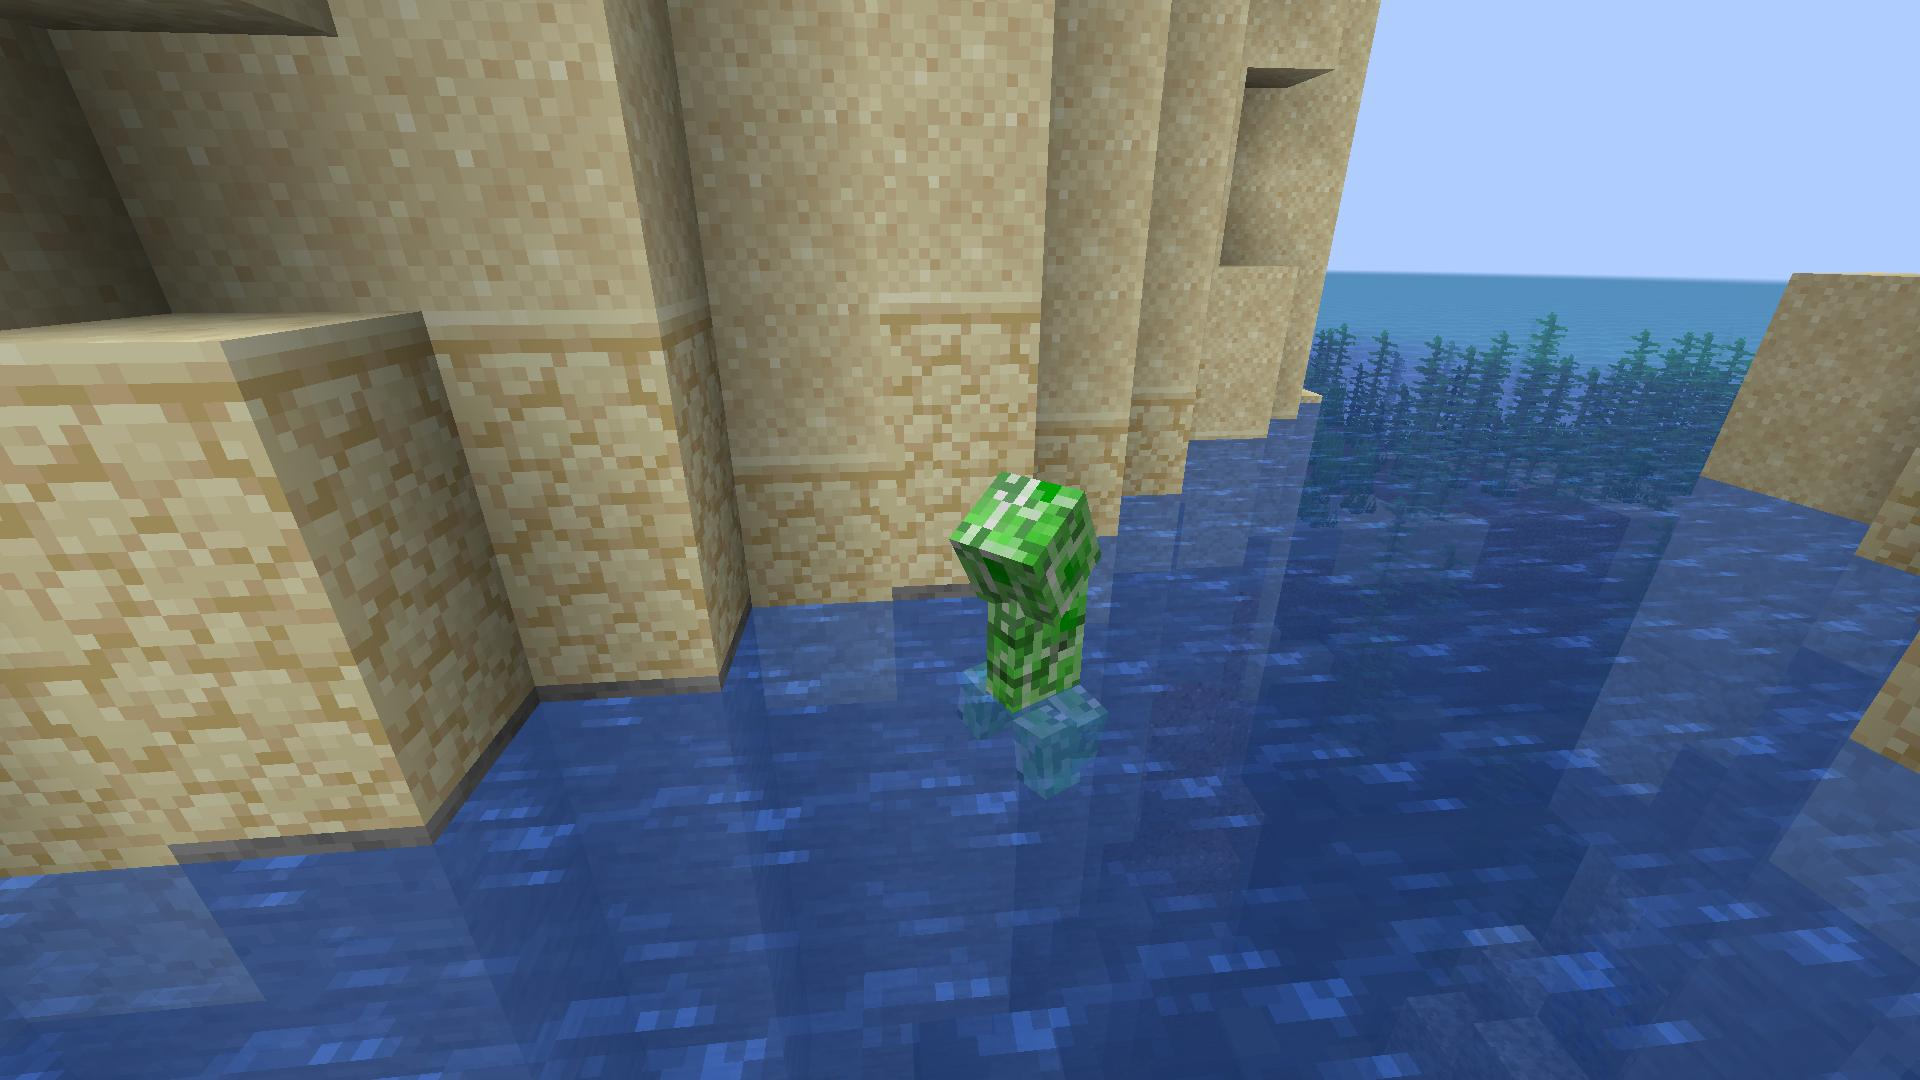creeper: (936, 459, 1137, 803)
